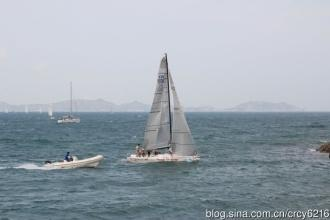fanchuan: (124, 53, 213, 167)
otherboat: (42, 139, 108, 170)
